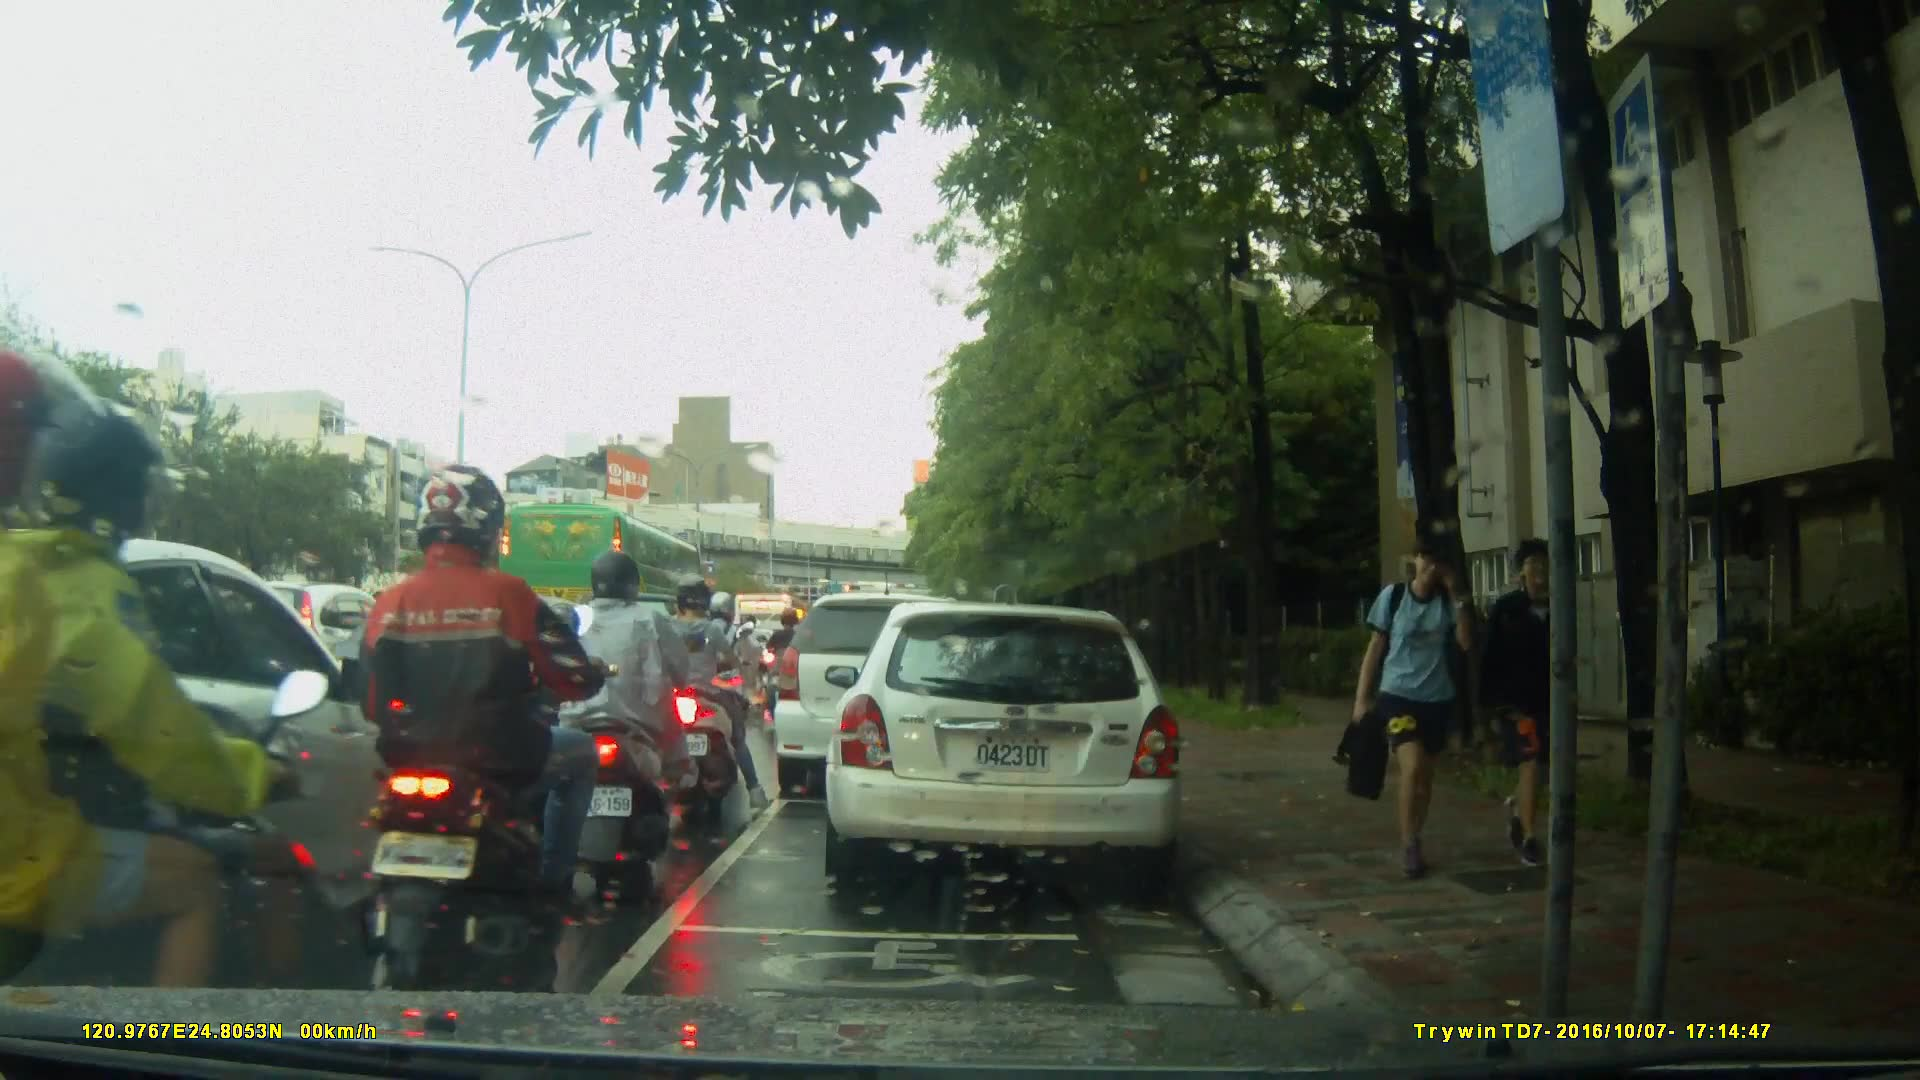pedestrian: (1329, 531, 1489, 877), (1480, 535, 1590, 876)
rider: (1, 343, 337, 1080), (360, 459, 627, 993), (553, 551, 725, 889), (645, 568, 748, 820), (698, 589, 772, 761), (767, 601, 812, 721)
vehicle: (1, 529, 455, 988), (831, 592, 1196, 897), (322, 590, 629, 779), (770, 590, 999, 803), (495, 502, 707, 636)
